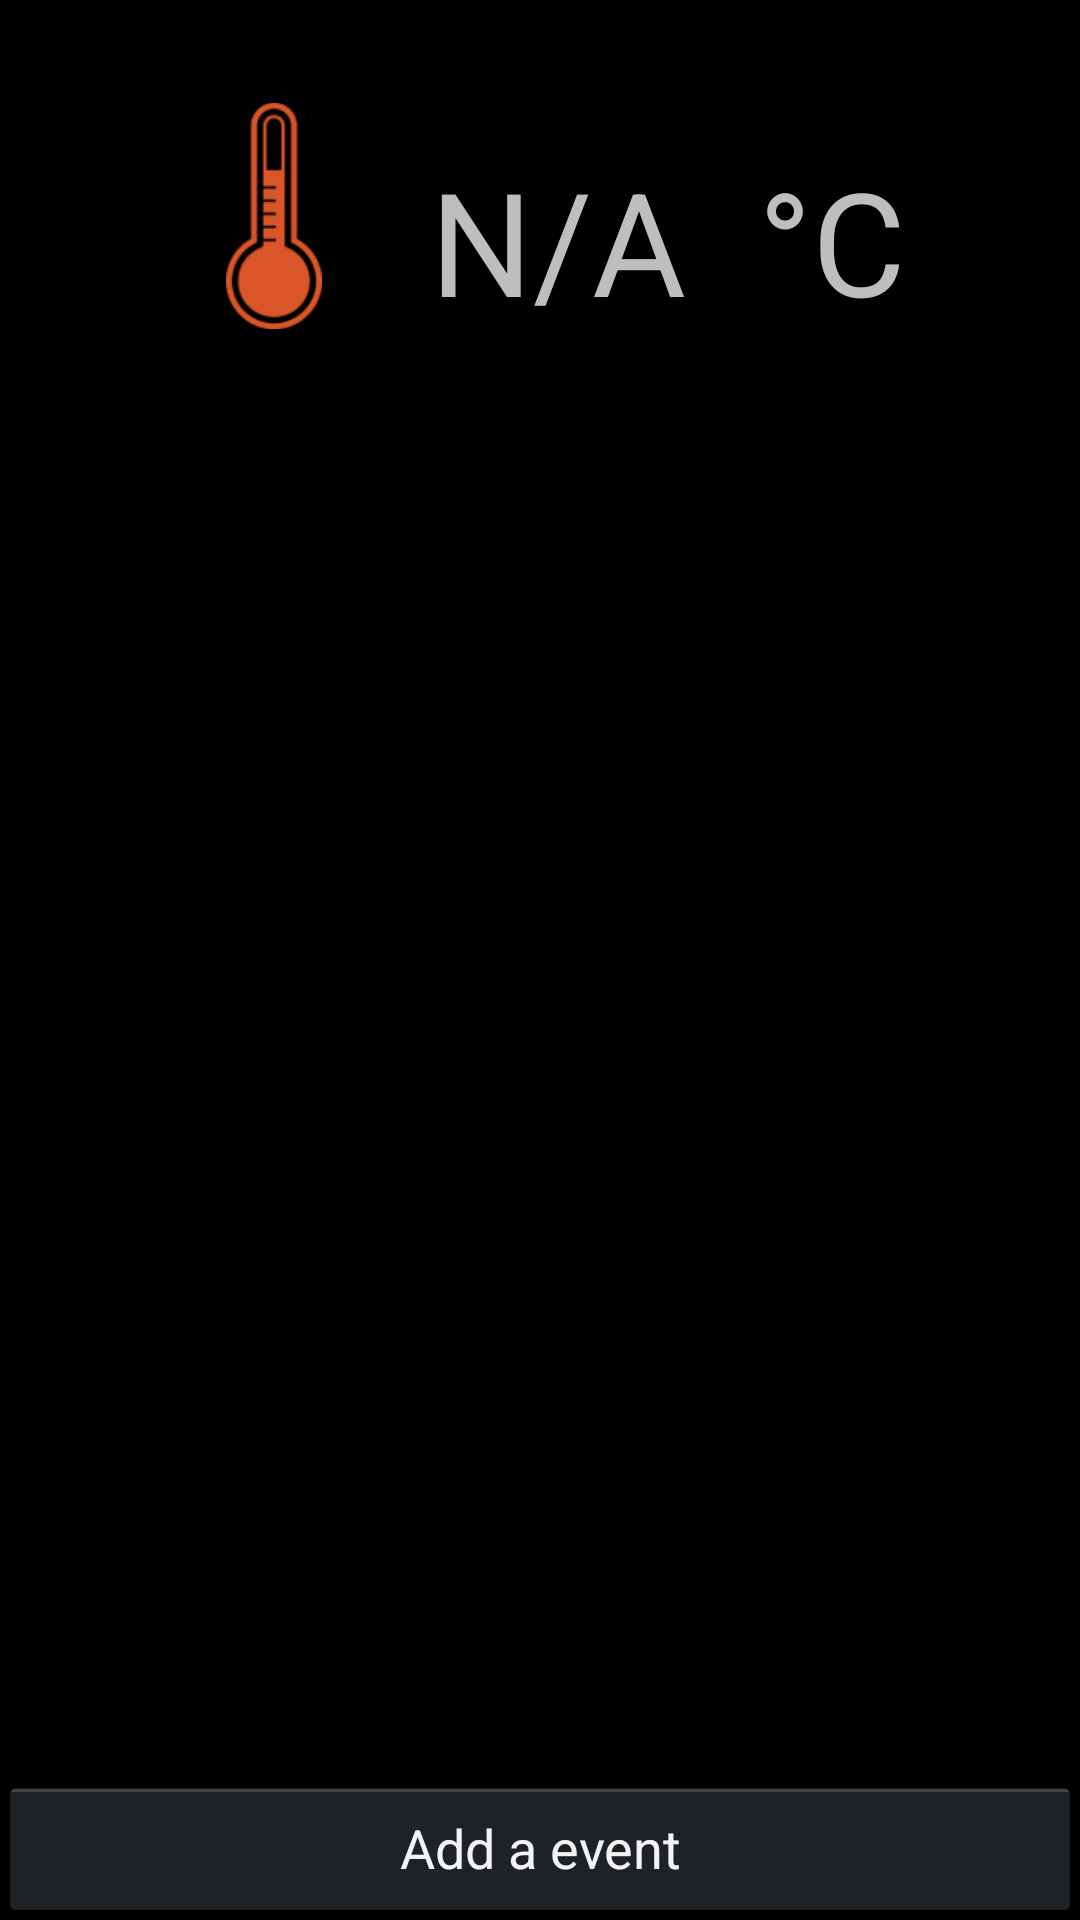

Where to tap for icons on this 1080×1920 app screen, as point (x, y):
temperature: point (274, 216)
